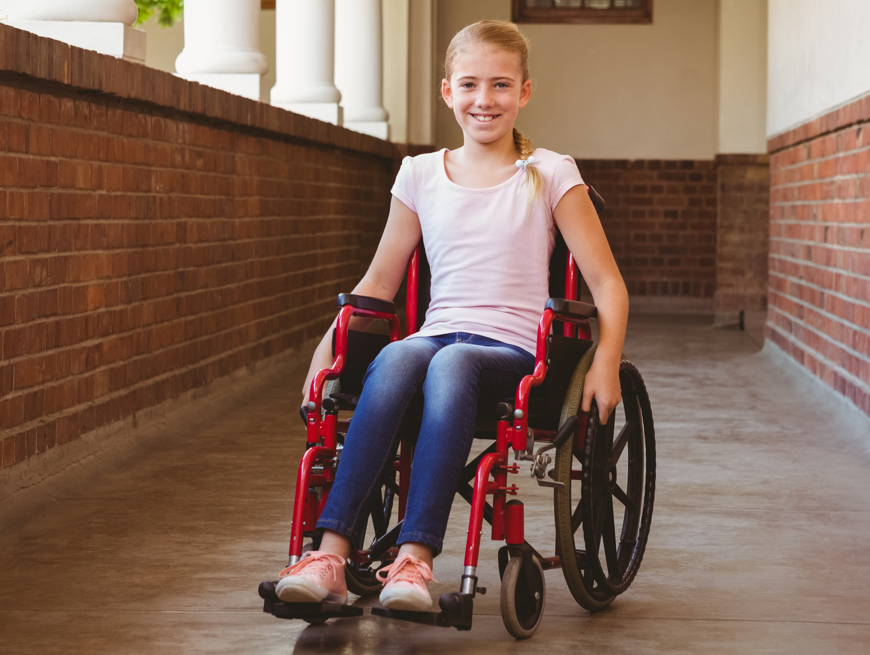person: (352, 5, 632, 288)
wheelchair: (253, 290, 688, 628)
